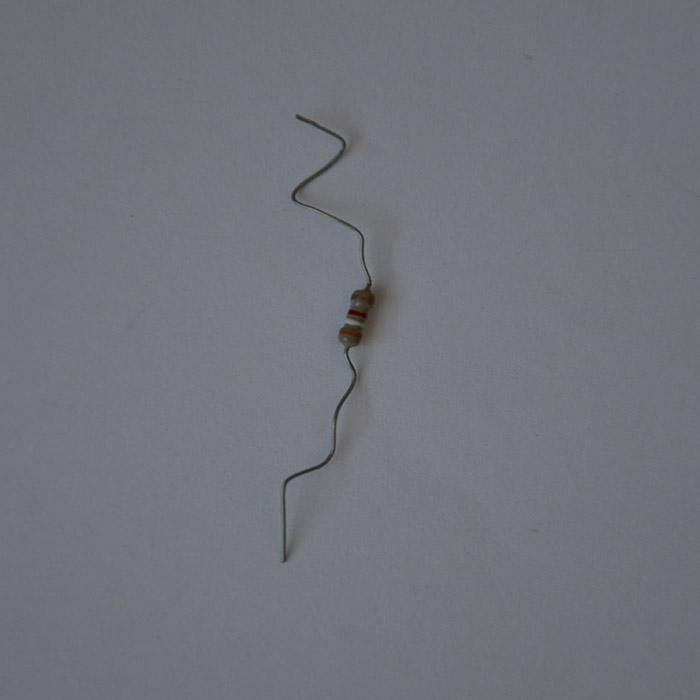resistor: (337, 286, 374, 349)
